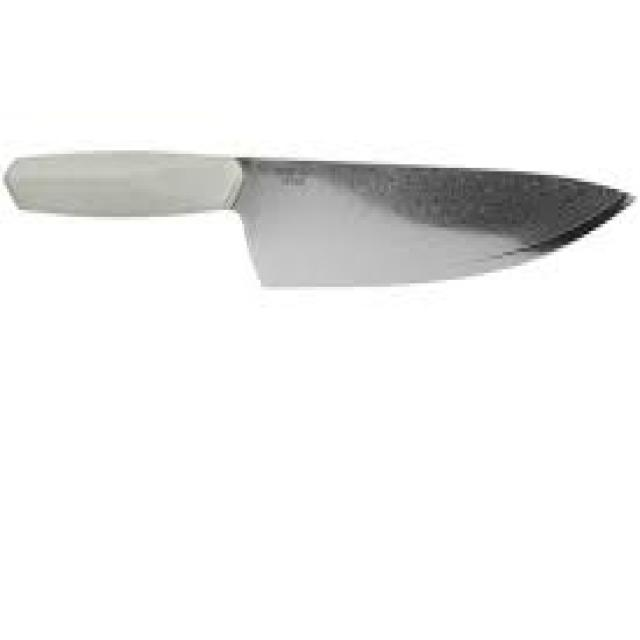Knife: (2, 147, 636, 287)
